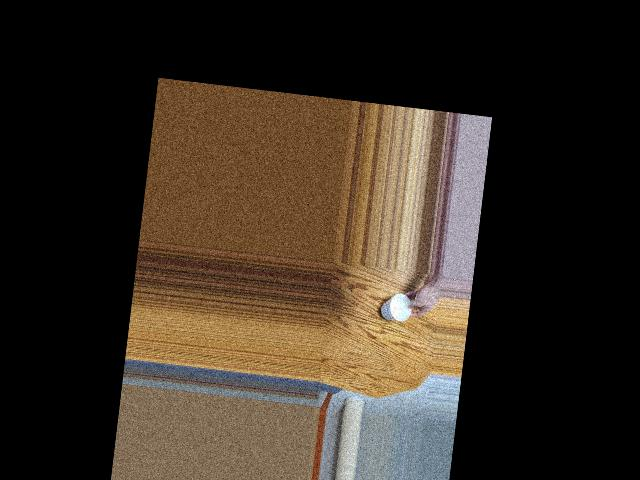cotage: (381, 293, 415, 321)
